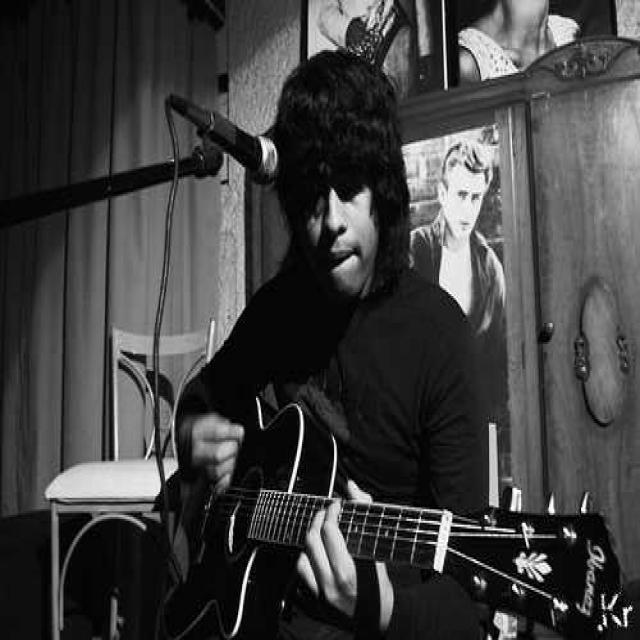microphone: (168, 93, 278, 184)
